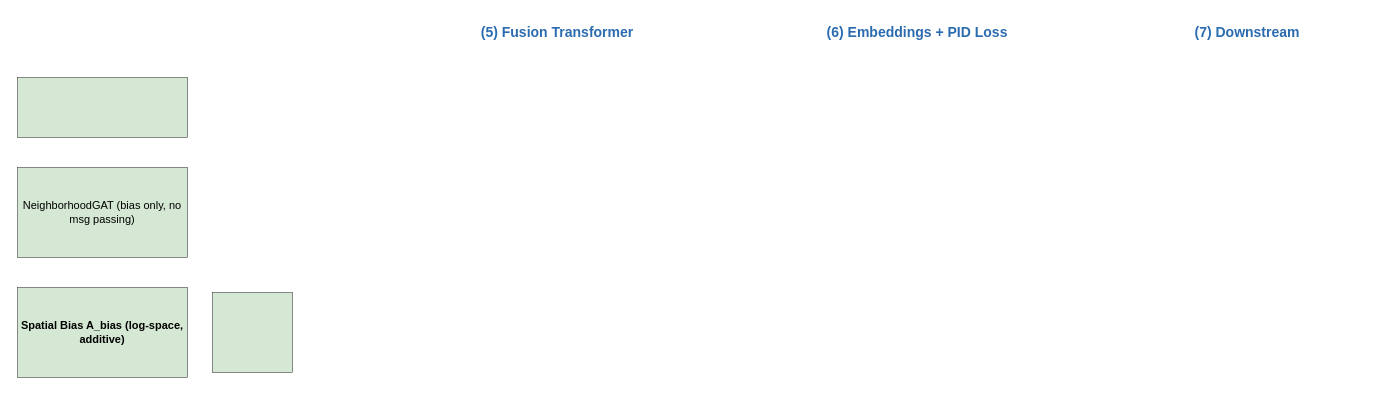
The diagram is 1385 pixels wide and 395 high, and some of its shapes have lost their labels. Here are the shapes that lost their labels. From the top down, the box of each, then its label:
(17, 77, 187, 137): k-NN Graph (k=16)
(212, 292, 292, 372): [A_bias heatmap]
